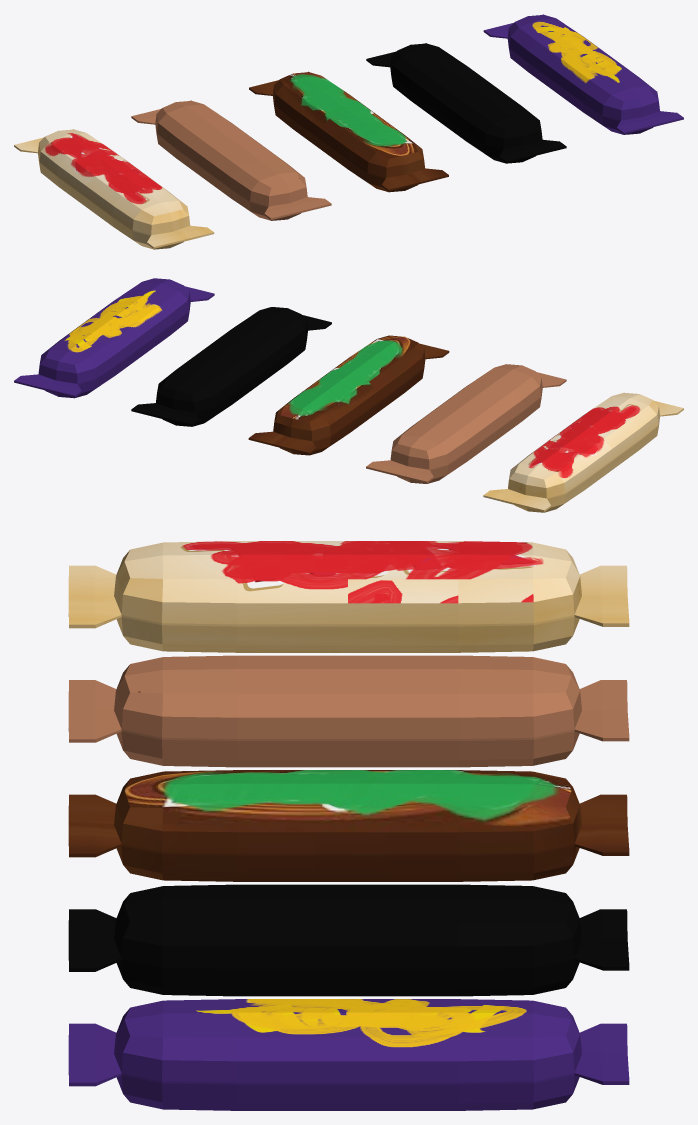
The model's file is Low_Poly_Chocolate_Bars.fbx.
The picture shows the model from 3 angles, top to bottom: view 1: azimuth 30°, elevation 25°; view 2: azimuth 150°, elevation 25°; view 3: azimuth 270°, elevation 25°; orthographic projection. The views are drawn at different scales.
Visible parts, largest first — view 1: Twix_Bar, Snickers_Bar, Milky_Way_Bar, Mars_Bar, Twirl_Bar; view 2: Mars_Bar, Snickers_Bar, Milky_Way_Bar, Twix_Bar, Twirl_Bar; view 3: Mars_Bar, Snickers_Bar, Twix_Bar, Twirl_Bar, Milky_Way_Bar.
Boxes of the visible parts, bbox=[...] form: Twix_Bar: bbox=[14, 129, 214, 249]; Snickers_Bar: bbox=[131, 100, 331, 220]; Milky_Way_Bar: bbox=[249, 71, 448, 192]; Mars_Bar: bbox=[366, 43, 566, 163]; Twirl_Bar: bbox=[483, 14, 683, 134]; Mars_Bar: bbox=[131, 307, 331, 426]; Snickers_Bar: bbox=[366, 364, 566, 483]; Milky_Way_Bar: bbox=[248, 335, 449, 455]; Twix_Bar: bbox=[483, 392, 683, 512]; Twirl_Bar: bbox=[14, 278, 214, 398]; Mars_Bar: bbox=[68, 884, 629, 996]; Snickers_Bar: bbox=[68, 655, 629, 767]; Twix_Bar: bbox=[68, 541, 629, 652]; Twirl_Bar: bbox=[68, 999, 629, 1110]; Milky_Way_Bar: bbox=[68, 770, 629, 881].
Size of the model in its own units: 22.58 by 1.73 by 10.35.
